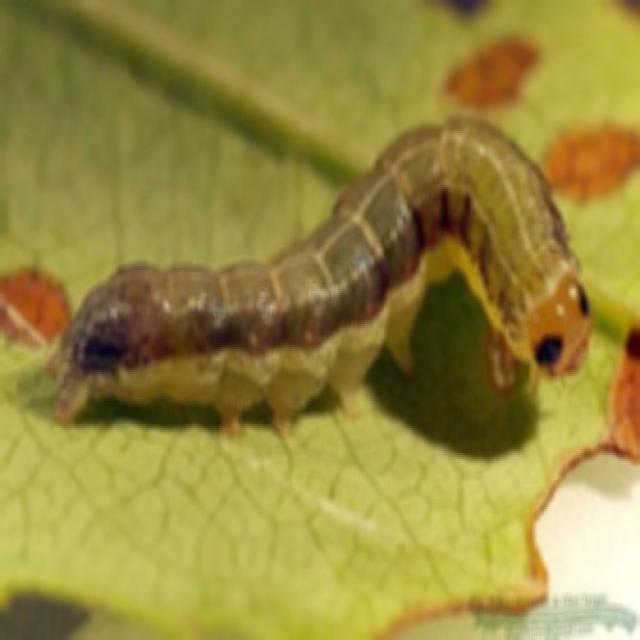black cutworm: (60, 107, 609, 415)
